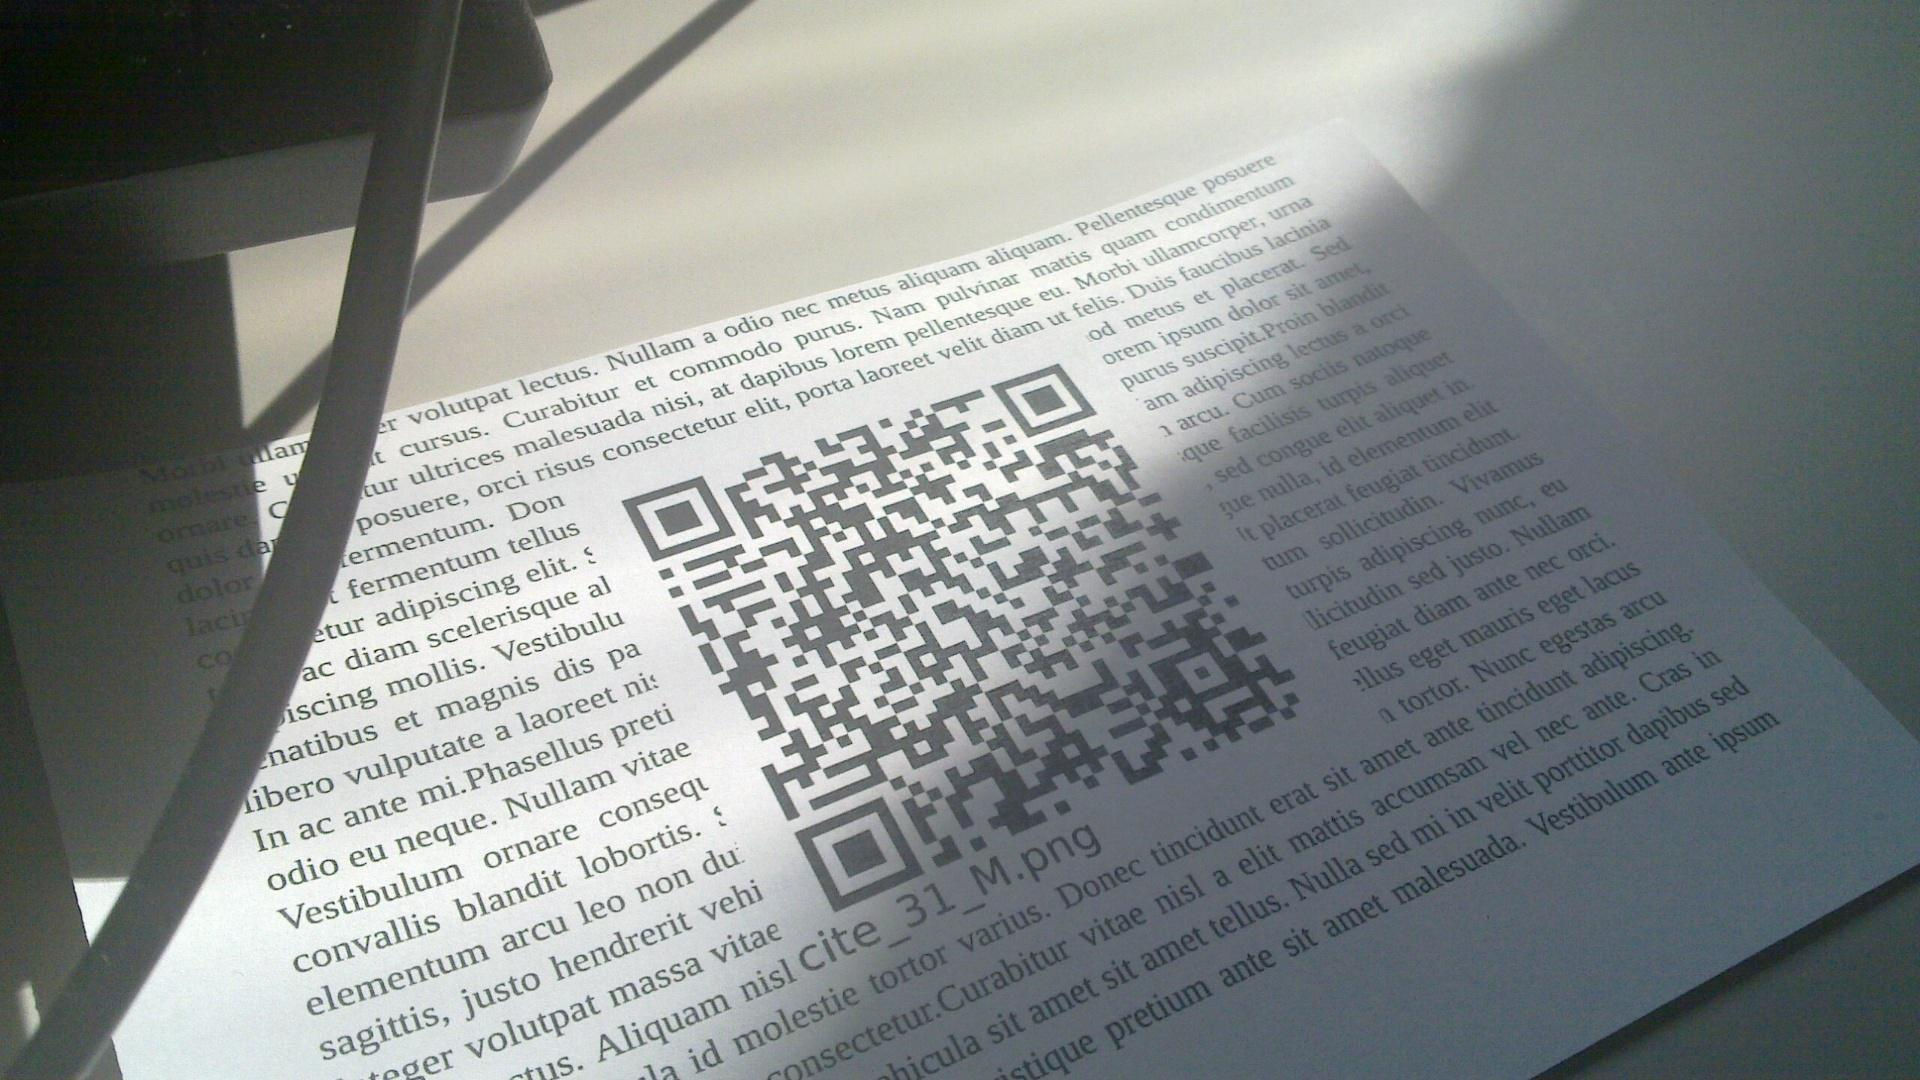qr_code: (621, 363, 1302, 913)
